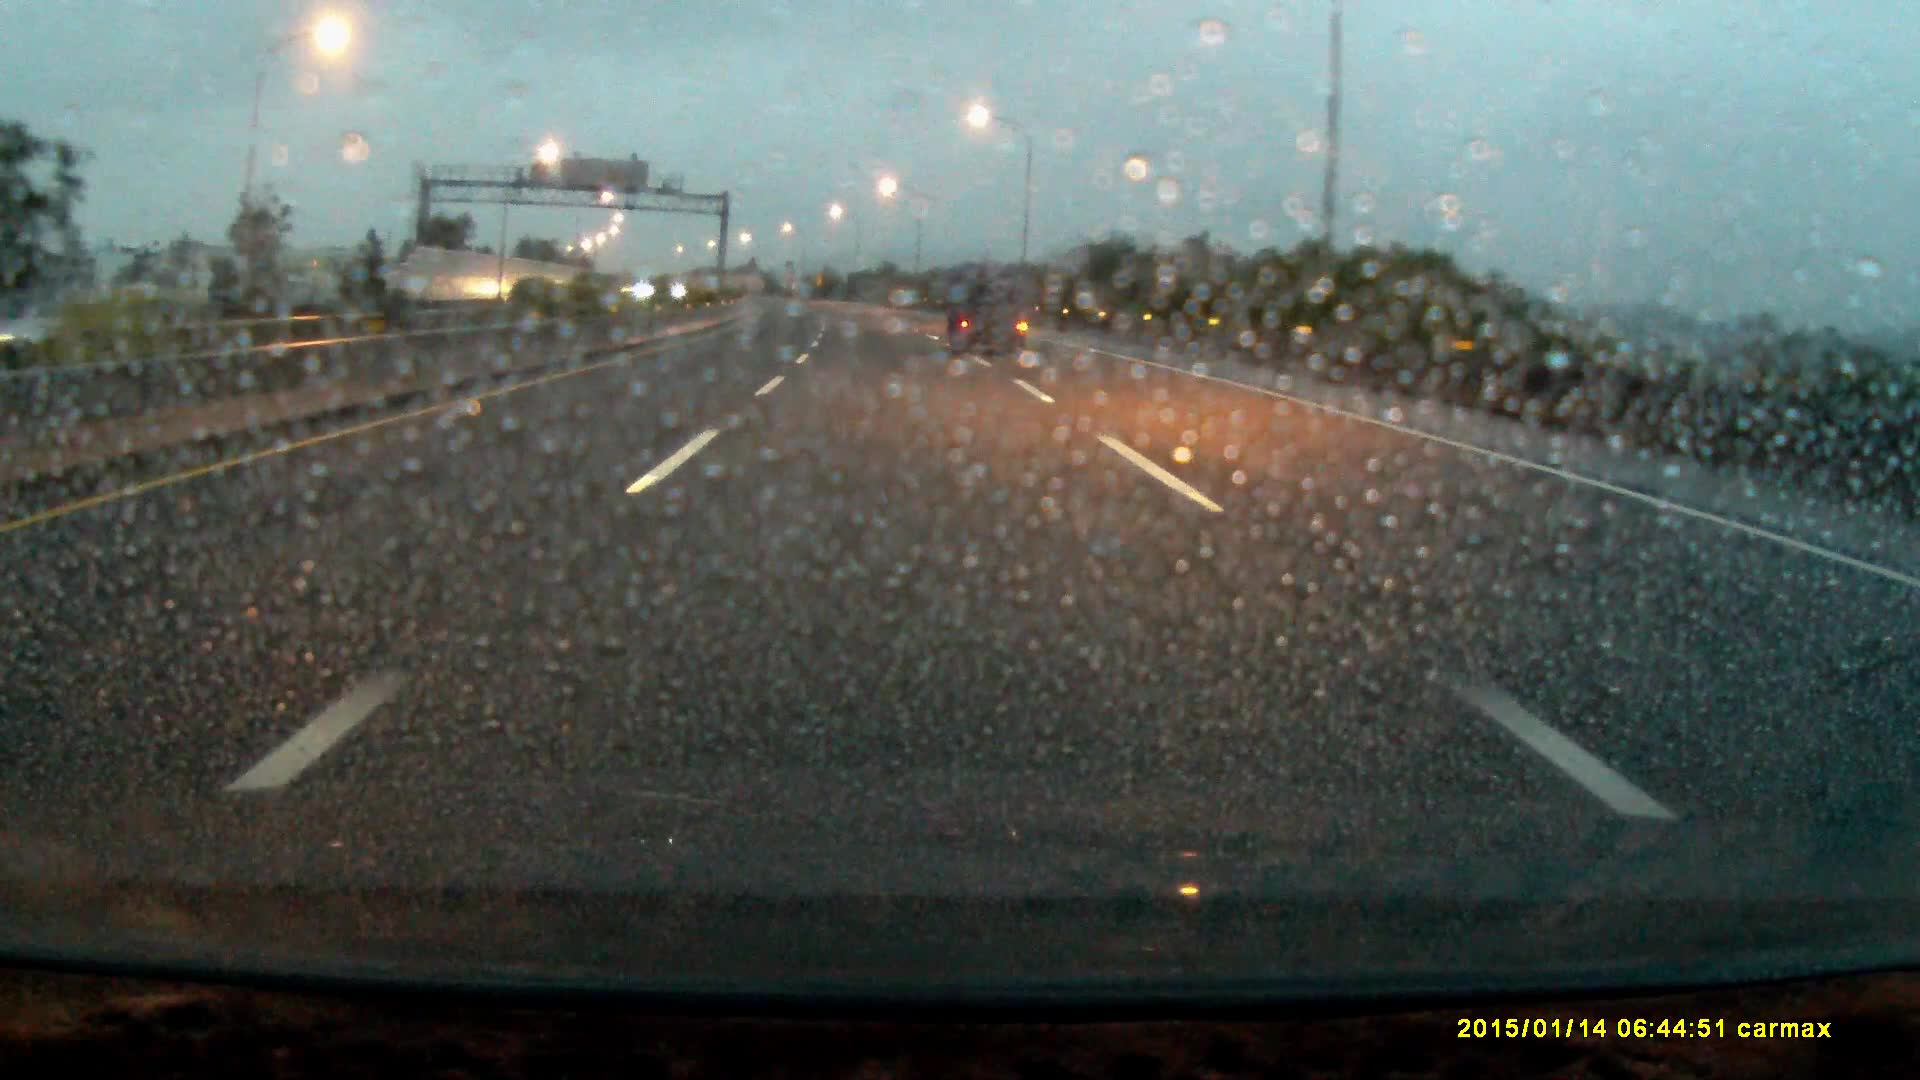vehicle: (945, 272, 1031, 359)
